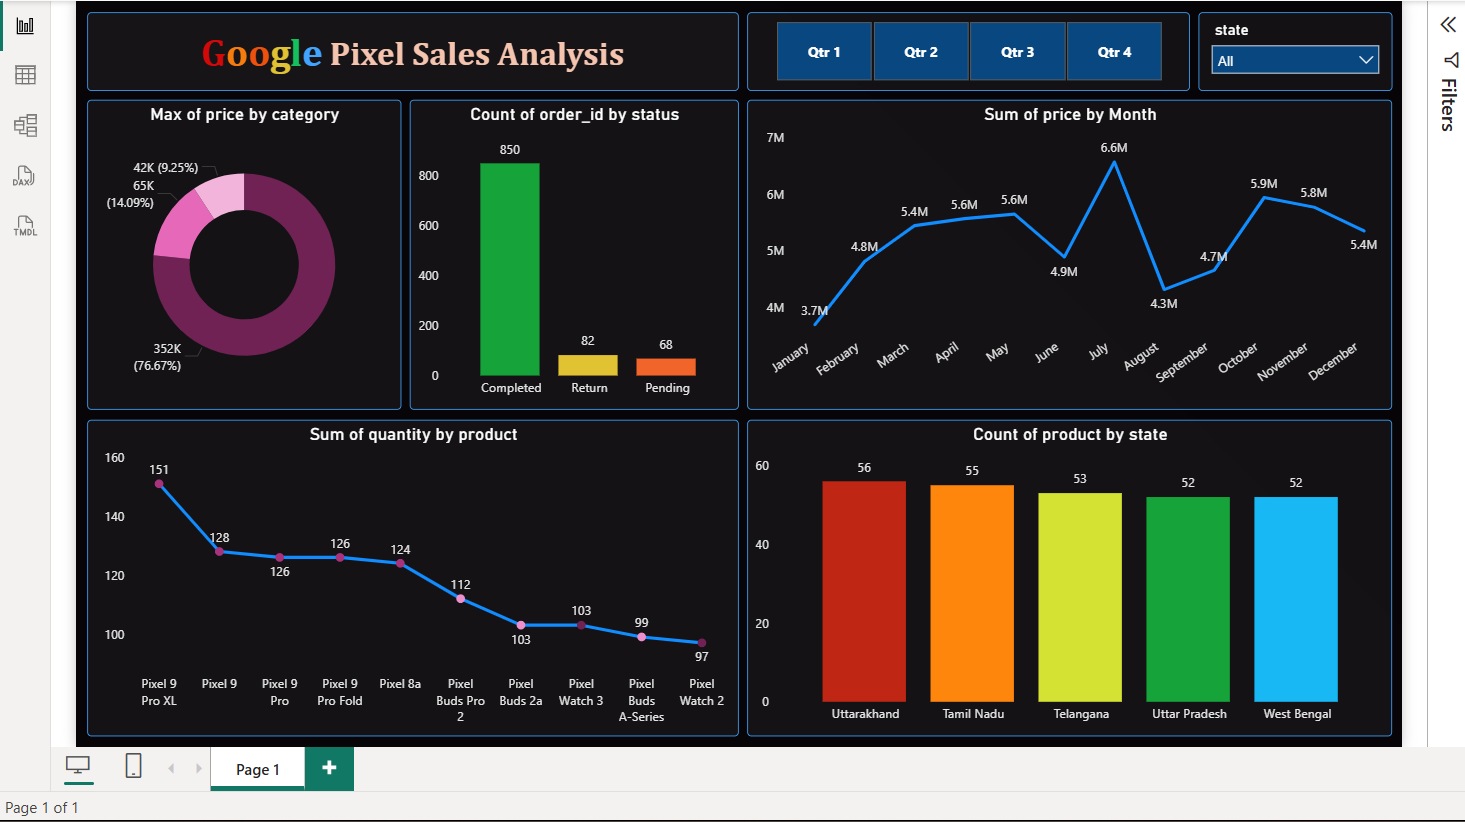

What the dashboard file says about the page in this screenshot:
{"tool":"powerbi","page":{"name":"Page 1","canvas":[1280,720],"ordinal":0},"visuals":[{"type":"clusteredColumnChart","fields":{"Category":["Sales_Data_2024.state"],"Y":["CountNonNull(Sales_Data_2024.product)"]},"box":[647.9,404.2,622.5,305.2],"z":0},{"type":"textbox","box":[10.9,10.9,628.6,76],"z":1000},{"type":"donutChart","fields":{"Y":["Max(Sales_Data_2024.price)"],"Category":["Sales_Data_2024.category"]},"box":[10.9,95.3,302.8,299.2],"z":2000},{"type":"slicer","fields":{"Values":["Sales_Data_2024.order_date.Variation.Date Hierarchy.Quarter"]},"box":[647.9,10.9,427.1,76],"z":3000},{"type":"slicer","fields":{"Values":["Sales_Data_2024.state"]},"box":[1083.4,10.9,187,76],"z":4000},{"type":"lineChart","fields":{"Category":["Sales_Data_2024.product"],"Y":["Sum(Sales_Data_2024.quantity)"]},"box":[10.9,404.2,628.6,305.2],"z":5000},{"type":"columnChart","fields":{"Y":["CountNonNull(Sales_Data_2024.order_id)"],"Category":["Sales_Data_2024.status"]},"box":[322.1,95.3,317.3,299.2],"z":6000},{"type":"lineChart","fields":{"Category":["Sales_Data_2024.order_date.Variation.Date Hierarchy.Month"],"Y":["Sum(Sales_Data_2024.price)"]},"box":[647.9,95.3,622.5,299.2],"z":7000}]}

Visuals, with their boxes on the page's 1280x720 design canvas (x1, y1, x2, y2). These are canvas units, not pixel positions in the 1465x822 screenshot, which may show the page scaled, cropped or inside an application window:
clusteredColumnChart - Sales_Data_2024.state x CountNonNull(Sales_Data_2024.product): detection(648, 404, 1270, 709)
textbox: detection(11, 11, 640, 87)
donutChart - Max(Sales_Data_2024.price) x Sales_Data_2024.category: detection(11, 95, 314, 394)
slicer - Sales_Data_2024.order_date.Variation.Date Hierarchy.Quarter: detection(648, 11, 1075, 87)
slicer - Sales_Data_2024.state: detection(1083, 11, 1270, 87)
lineChart - Sales_Data_2024.product x Sum(Sales_Data_2024.quantity): detection(11, 404, 640, 709)
columnChart - CountNonNull(Sales_Data_2024.order_id) x Sales_Data_2024.status: detection(322, 95, 639, 394)
lineChart - Sales_Data_2024.order_date.Variation.Date Hierarchy.Month x Sum(Sales_Data_2024.price): detection(648, 95, 1270, 394)
